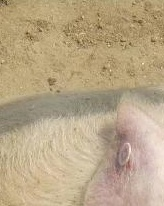text: (106, 133, 142, 178)
